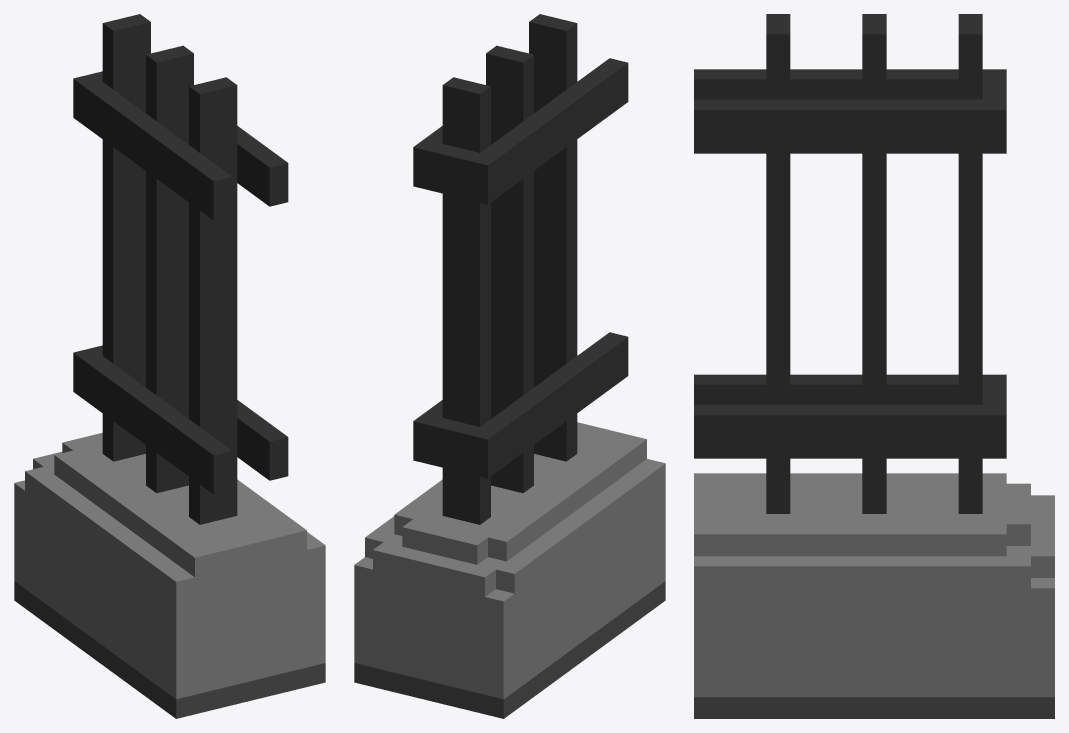
File: 3D Voxel Park-47.obj
The picture shows the model from 3 angles, left to right: view 1: azimuth 30°, elevation 25°; view 2: azimuth 150°, elevation 25°; view 3: azimuth 270°, elevation 25°; orthographic projection. The views are drawn at different scales.
Size of the model in its own units: 0.8 by 3 by 1.5.
Materials: 1 (1 with a texture image).
